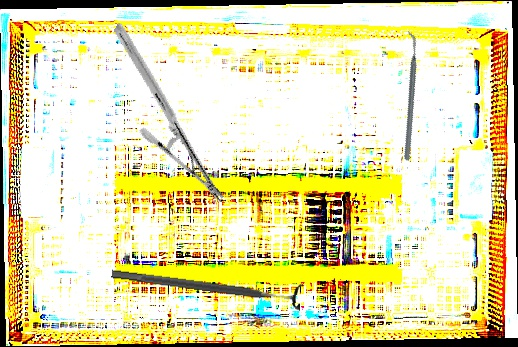Chopper: (355, 29, 463, 163)
Fixation Ring: (109, 258, 304, 313)
Needle Holder: (64, 21, 274, 205)
